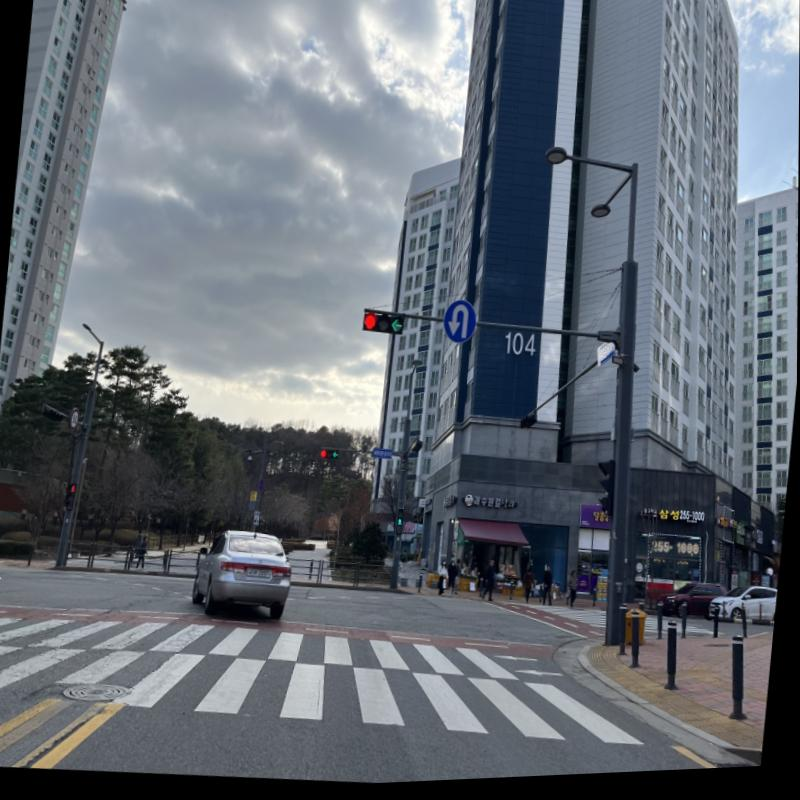left: (391, 320, 404, 338)
red: (364, 317, 378, 334)
